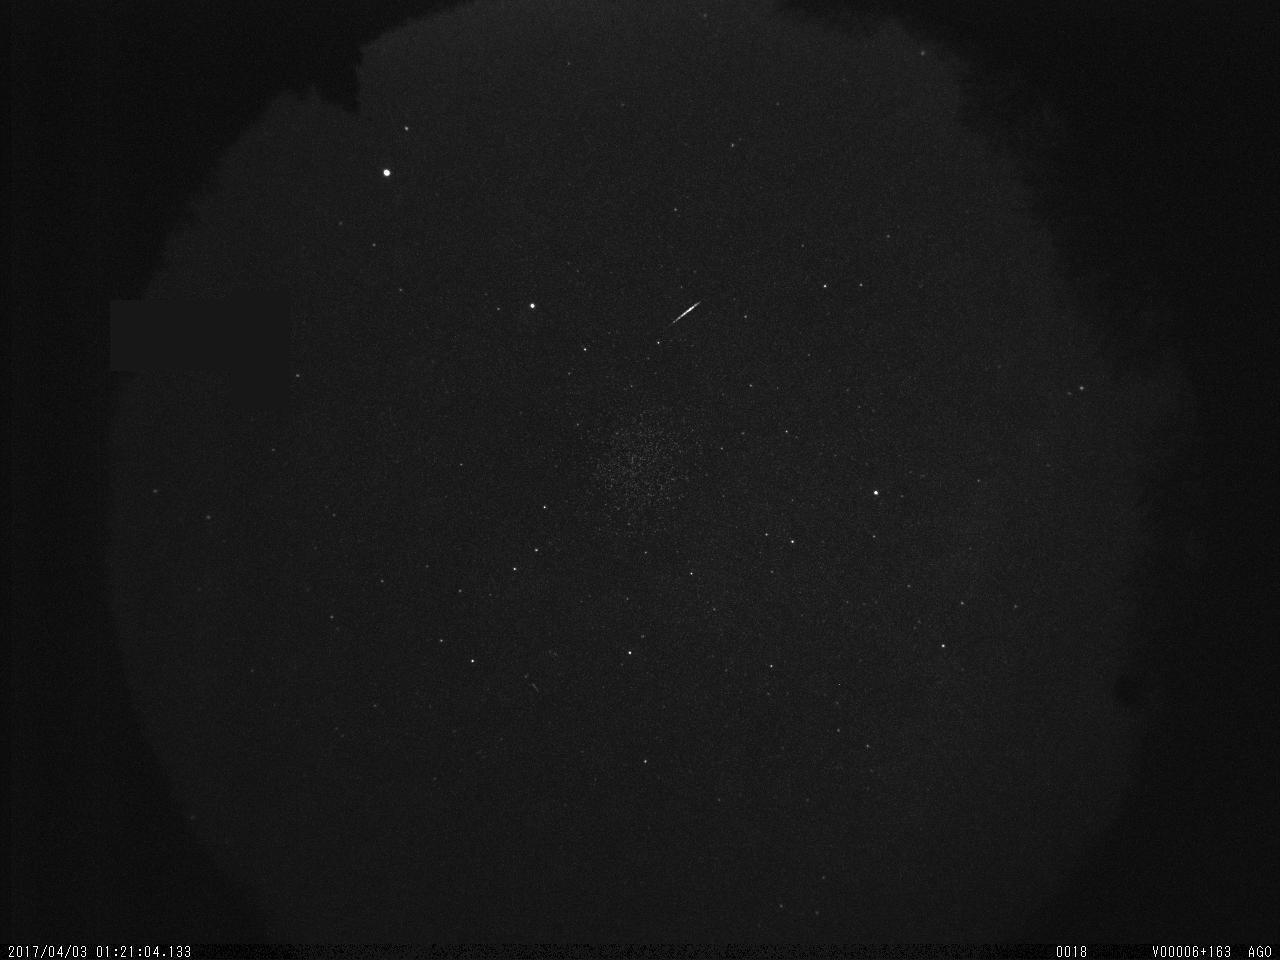Meteor: (670, 296, 703, 326)
